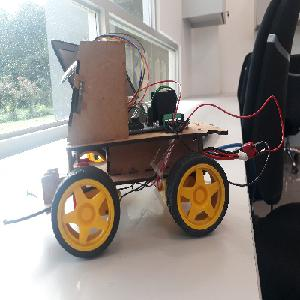Robot: (3, 32, 230, 259)
